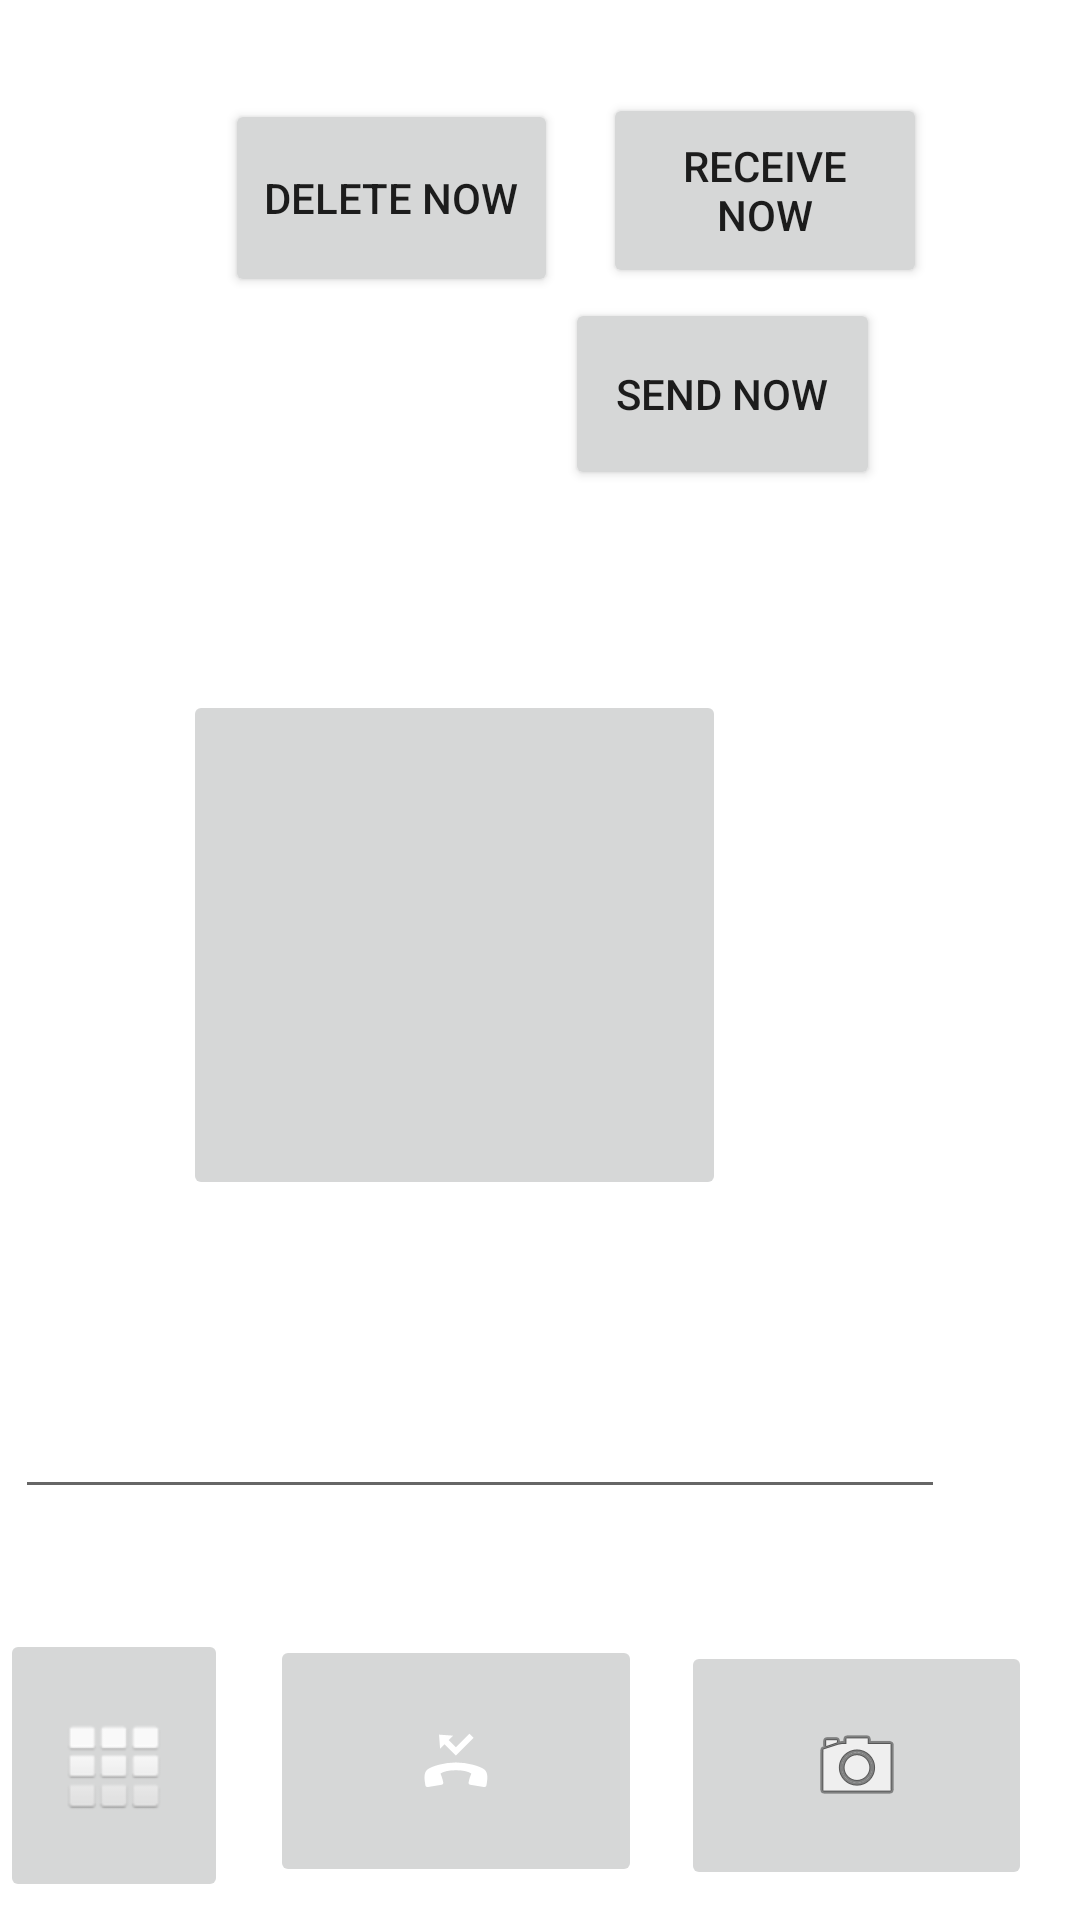

Icon click points for this 1080x1920 phone screenshot, format [x,y]:
camera: [856,1765]
dialer: [114,1765]
missed call: [456,1761]
